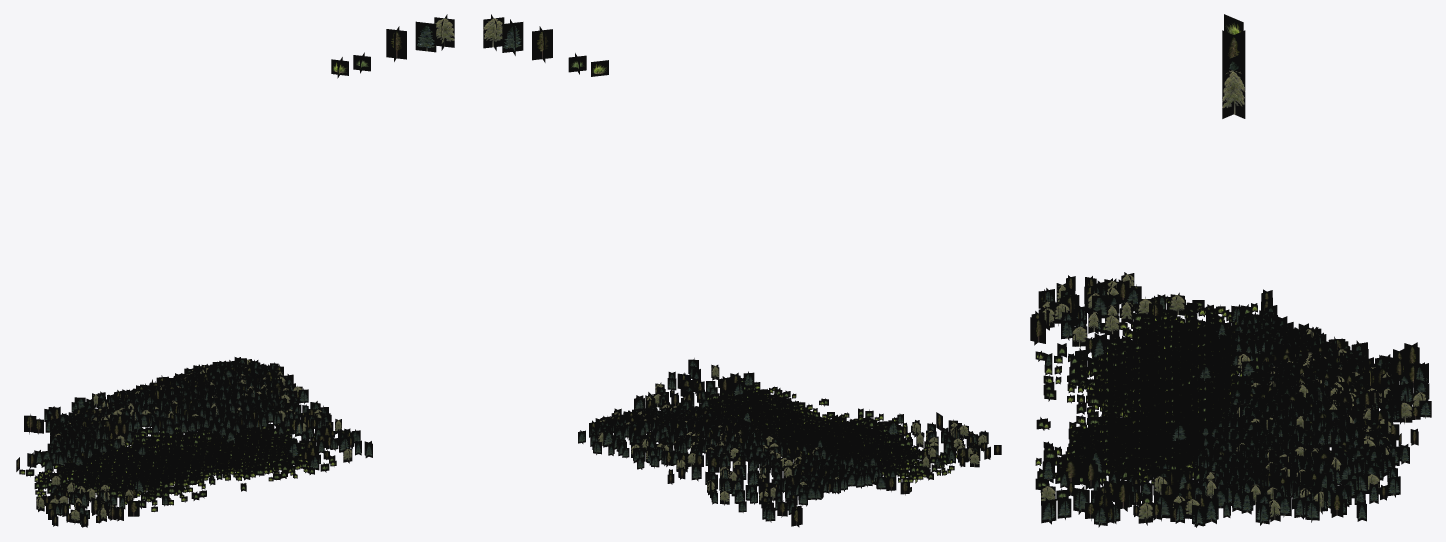
Rendered from trees.glb.
3 renders of one model, left to right at view 1: azimuth 30°, elevation 25°; view 2: azimuth 150°, elevation 25°; view 3: azimuth 270°, elevation 25°, orthographic. The views are drawn at different scales.
Visible parts, largest first — view 1: part1, part4, part3, part0, part2; view 2: part1, part4, part3, part2, part0; view 3: part1, part4, part3, part2, part0.
Boxes of the visible parts, x1,y1,x2,y2 form: part1: (34,21,436,526); part4: (26,52,370,508); part3: (16,26,406,527); part0: (19,57,348,511); part2: (36,14,454,524); part1: (502,19,987,522); part4: (568,53,948,489); part3: (532,26,1001,527); part2: (483,14,987,505); part0: (591,60,956,492); part1: (1041,52,1431,527); part4: (1035,300,1264,503); part3: (1030,30,1421,523); part2: (1040,66,1426,525); part0: (1035,14,1264,500).
Bounding box in the file's own units: 1635 × 1277 × 821.
5 materials, 5 textured.
